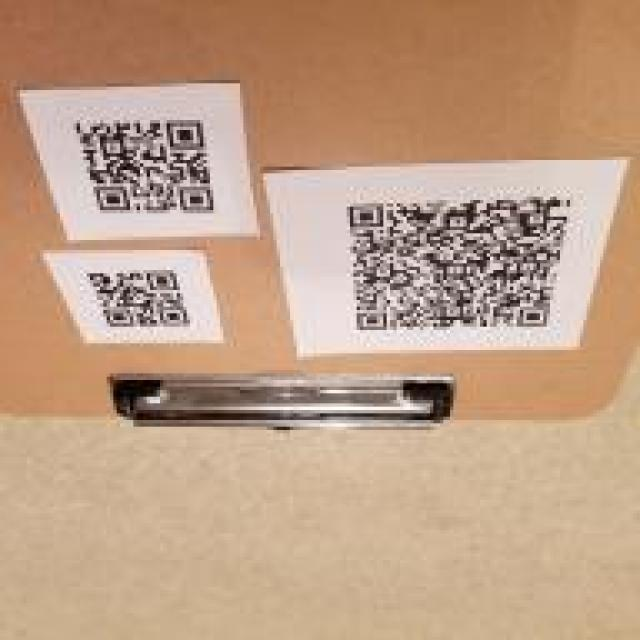qr_code: (347, 198, 571, 330), (73, 120, 216, 214), (86, 269, 191, 328)
